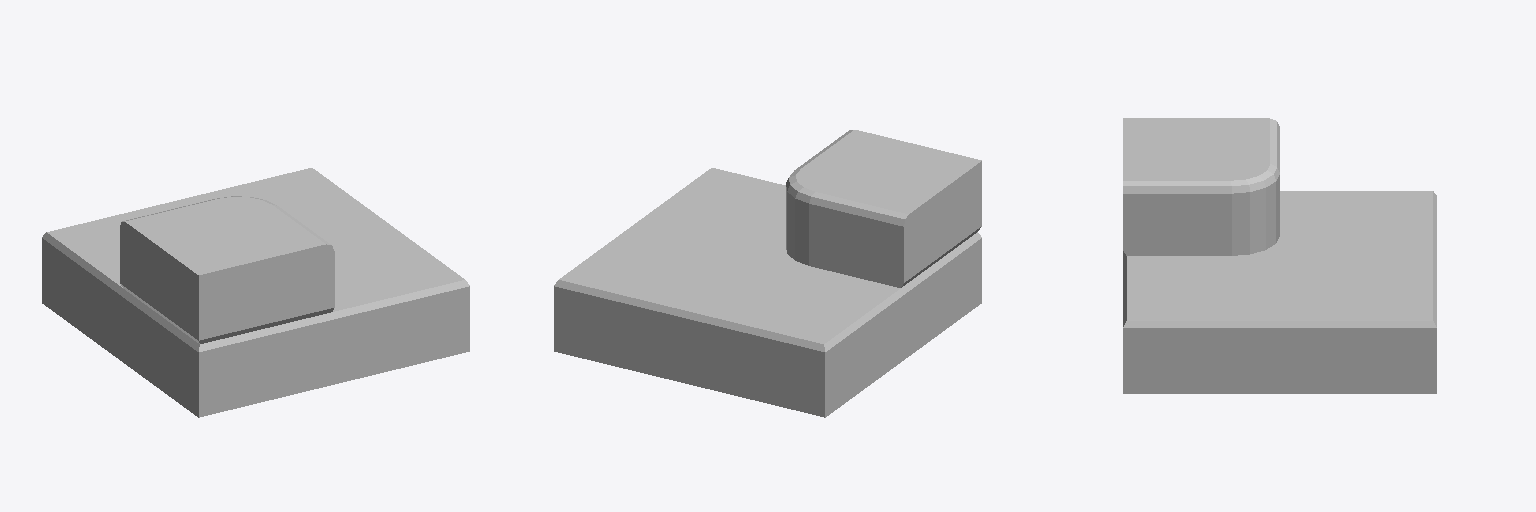
File: square_rock_waterOuterCorner_empty.obj
The picture shows the model from 3 angles: view 1: azimuth 30°, elevation 25°; view 2: azimuth 150°, elevation 25°; view 3: azimuth 270°, elevation 25°; orthographic projection.
Visible parts, largest first — view 1: square_rock_waterOuterCorner_empty_Cube.471; view 2: square_rock_waterOuterCorner_empty_Cube.471; view 3: square_rock_waterOuterCorner_empty_Cube.471.
Boxes of the visible parts, x1,y1,x2,y2 form: square_rock_waterOuterCorner_empty_Cube.471: [42, 168, 469, 417]; square_rock_waterOuterCorner_empty_Cube.471: [554, 130, 981, 417]; square_rock_waterOuterCorner_empty_Cube.471: [1123, 118, 1436, 393].
Size of the model in its own units: 2 by 1 by 2.